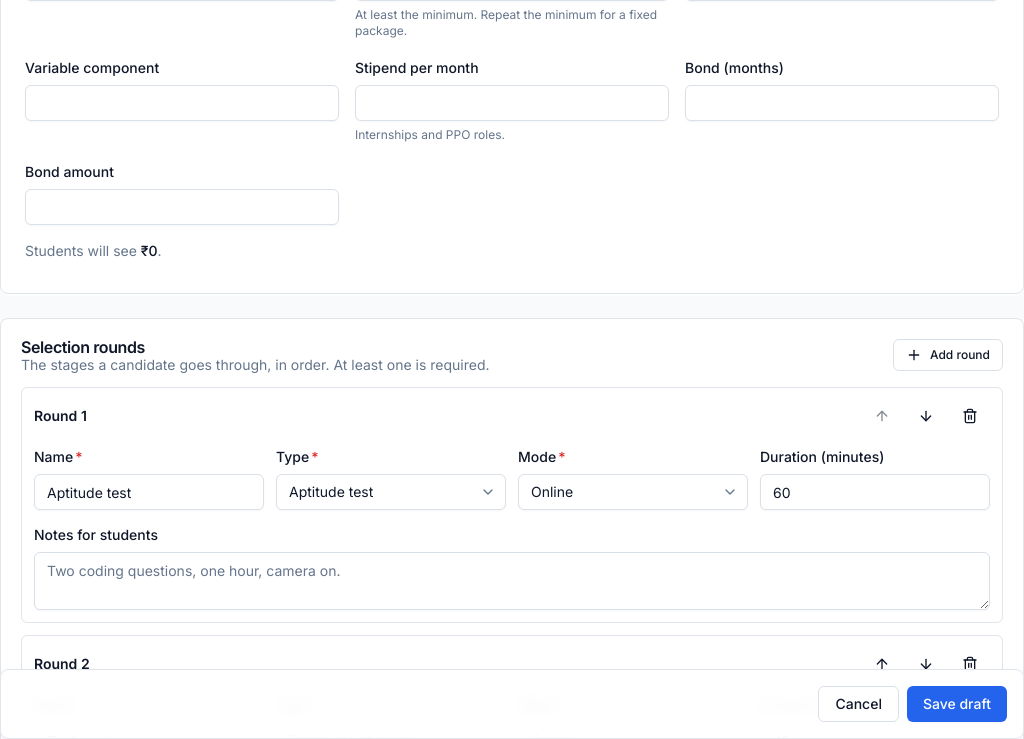
Scenario: Job posting form › starts with a usable set of rounds and can add one
(page scrolled)
Expected: the text "Round 1" is shown, [34,406,87,426]
Click the button "Add round". click: [948, 355]
box: [893,339,1003,371]
(page scrolled)
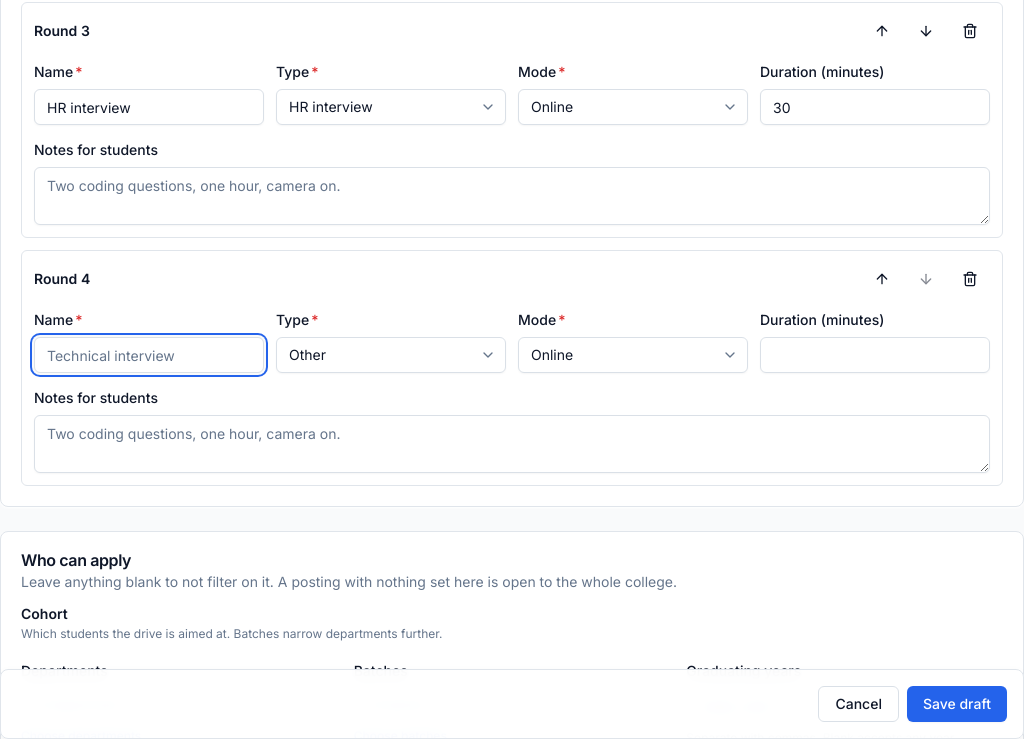
Now the text "Round 4" is shown, box [34,269,90,289]
